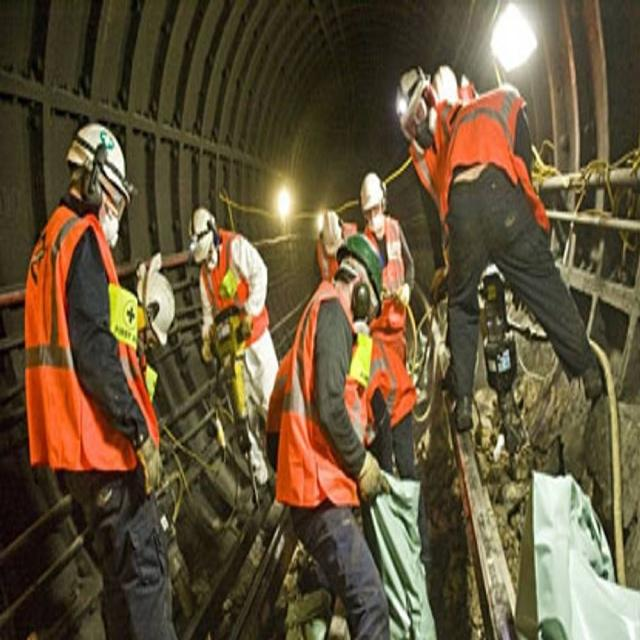helmet: (66, 160, 127, 325), (335, 308, 386, 429), (394, 88, 435, 201), (186, 278, 218, 358), (359, 229, 387, 311), (317, 275, 343, 341)
vest: (27, 288, 158, 640), (268, 399, 376, 640), (443, 106, 537, 246), (197, 312, 272, 485)
